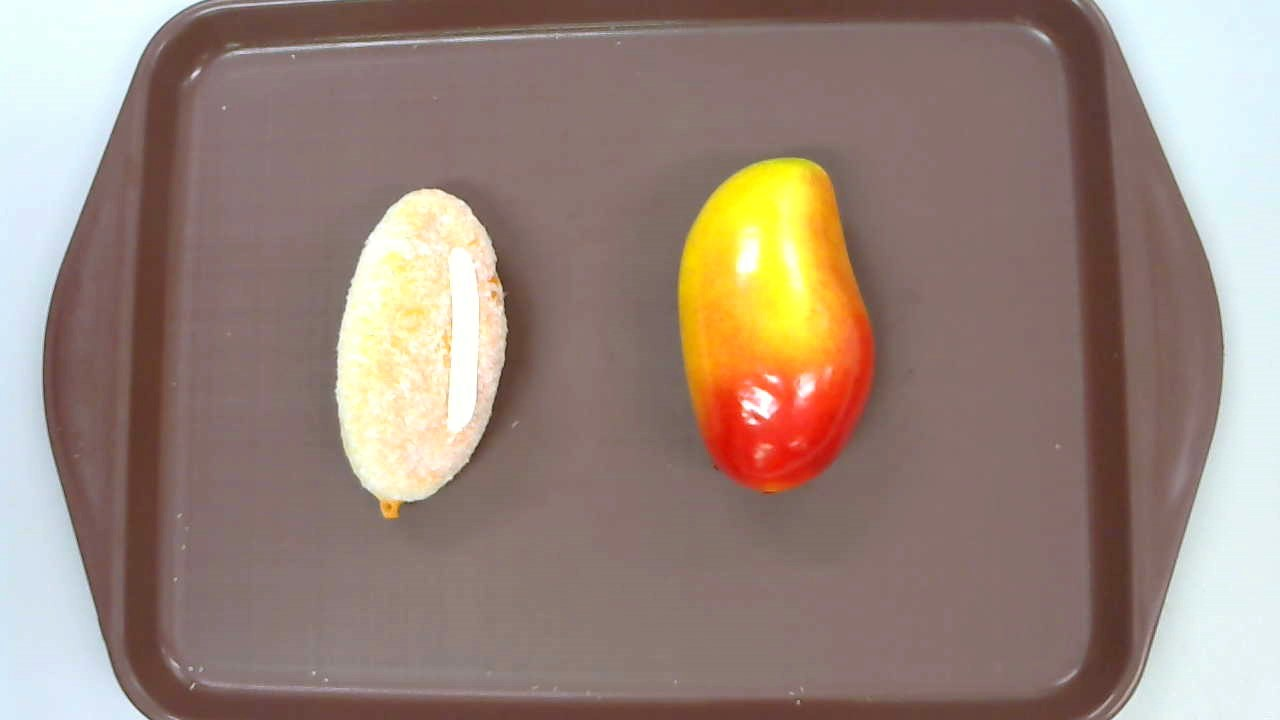coconut: (335, 189, 507, 520)
red mango: (678, 157, 876, 497)
